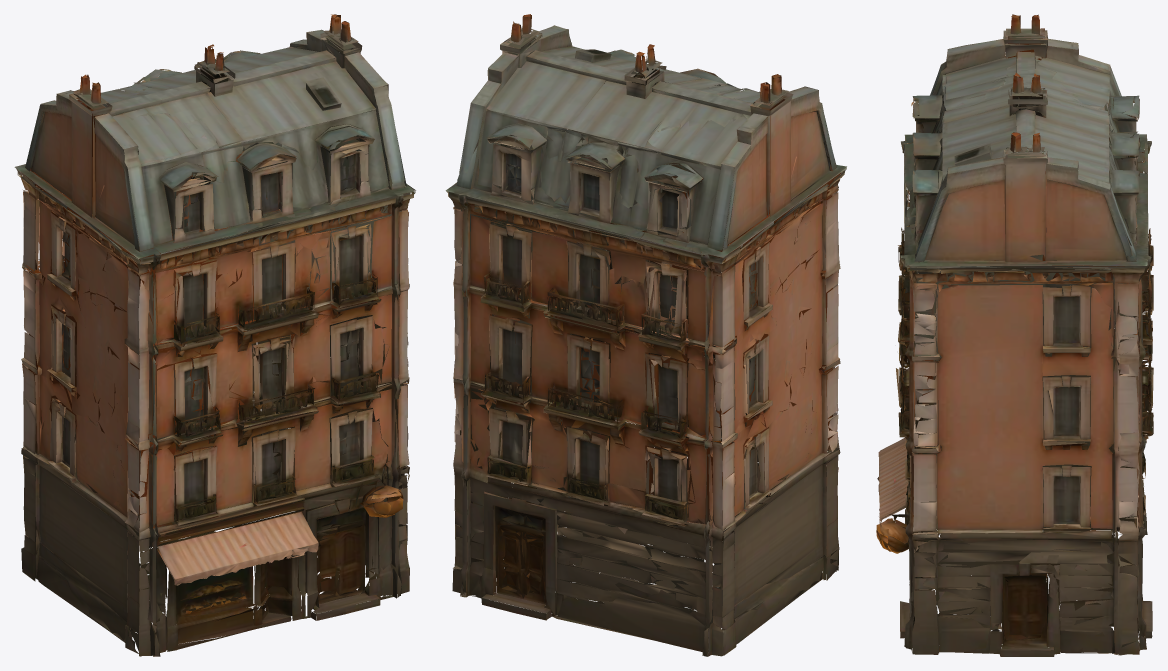
Rendered from ch03_shop_bakery_tenement.glb.
The picture shows the model from 3 angles, left to right: view 1: azimuth 30°, elevation 25°; view 2: azimuth 150°, elevation 25°; view 3: azimuth 270°, elevation 25°; orthographic projection. The views are drawn at different scales.
Visible parts, largest first — view 1: material; view 2: material; view 3: material.
Part boxes in pixels (x1,y1,x2,y2): material: (14, 14, 415, 656); material: (445, 14, 846, 656); material: (876, 14, 1153, 656).
Bounding box in the file's own units: 0.5424 × 0.9945 × 0.4827.
Materials: 1 (1 with a texture image).
